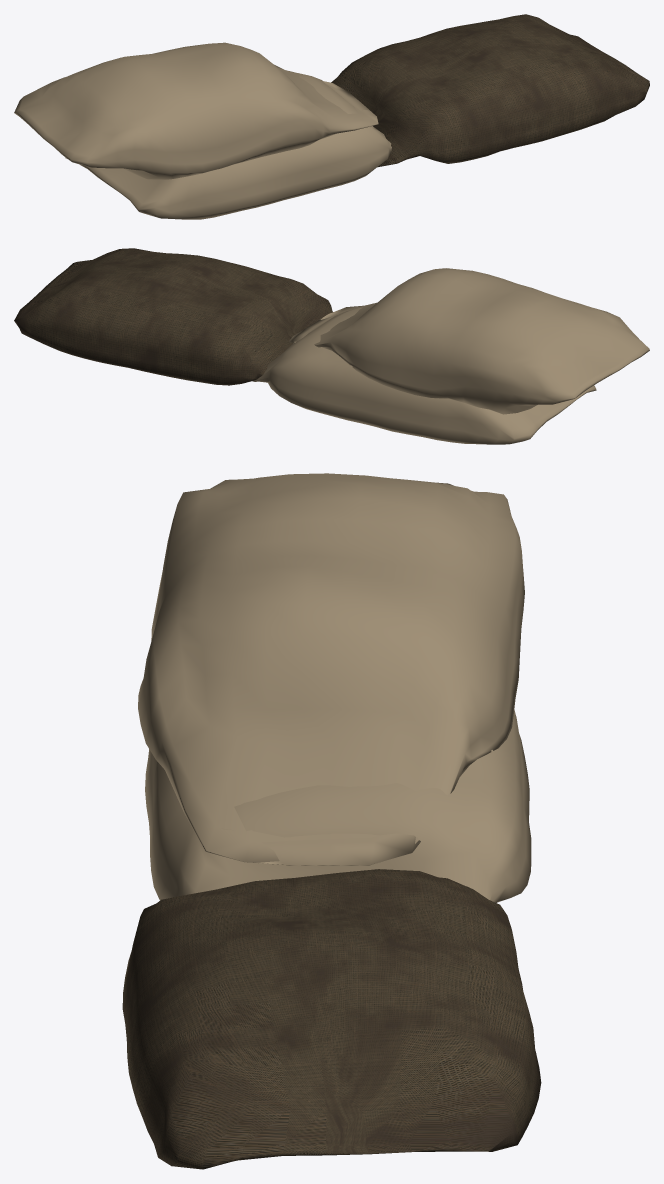
Rendered from S7U_SandbagsL_2L_B.fbx.
The picture shows the model from 3 angles, top to bottom: view 1: azimuth 30°, elevation 25°; view 2: azimuth 150°, elevation 25°; view 3: azimuth 270°, elevation 25°; orthographic projection. The views are drawn at different scales.
Parts seen in each view (by area): view 1: S7U_SandbagsL_2L_B; view 2: S7U_SandbagsL_2L_B; view 3: S7U_SandbagsL_2L_B.
Part boxes in pixels (x1,y1,x2,y2): S7U_SandbagsL_2L_B: [14, 14, 649, 219]; S7U_SandbagsL_2L_B: [14, 248, 649, 444]; S7U_SandbagsL_2L_B: [122, 473, 541, 1169].
Size of the model in its own units: 1.98 by 0.4136 by 0.6251.
